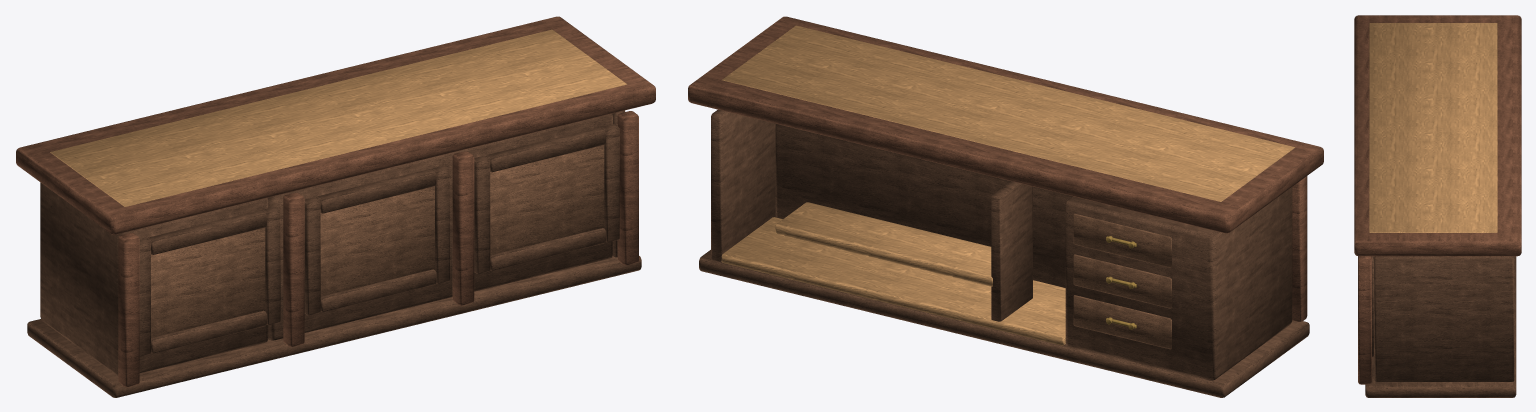
File: asset_061_front_desk_counter_shell.glb
The picture shows the model from 3 angles, left to right: view 1: azimuth 30°, elevation 25°; view 2: azimuth 150°, elevation 25°; view 3: azimuth 270°, elevation 25°; orthographic projection. The views are drawn at different scales.
Visible parts, largest first — view 1: MESH_CustomerRaisedPanelSet, MESH_CounterTopInlay, MESH_CounterTop, MESH_CounterCarcassDrawerBank, MESH_CustomerPilasterSet, MESH_CounterPlinth, MESH_CounterCarcassFrontWall; view 2: MESH_CounterTopInlay, MESH_CounterTop, MESH_CounterCarcassDrawerBank, MESH_CounterCarcassFrontWall, MESH_CounterCarcassBayDeck, MESH_CounterPlinth, MESH_StaffDrawerFrontSet, MESH_StaffLowerShelf, MESH_CounterCarcassEndPanel, MESH_StaffDivider, MESH_CustomerPilasterSet; view 3: MESH_CounterTopInlay, MESH_CounterCarcassEndPanel, MESH_CounterTop, MESH_CounterPlinth, MESH_CustomerPilasterSet, MESH_CustomerRaisedPanelSet.
Part boxes in pixels (box(x1,y1,x2,y2)): MESH_CustomerRaisedPanelSet: box(139, 124, 619, 356); MESH_CounterTopInlay: box(50, 29, 626, 206); MESH_CounterTop: box(16, 16, 655, 234); MESH_CounterCarcassDrawerBank: box(40, 182, 268, 376); MESH_CustomerPilasterSet: box(118, 111, 638, 387); MESH_CounterPlinth: box(27, 256, 641, 397); MESH_CounterCarcassFrontWall: box(267, 113, 612, 340); MESH_CounterTopInlay: box(722, 25, 1295, 201); MESH_CounterTop: box(688, 16, 1323, 233); MESH_CounterCarcassDrawerBank: box(1065, 187, 1292, 380); MESH_CounterCarcassFrontWall: box(775, 124, 1072, 287); MESH_CounterCarcassBayDeck: box(721, 217, 1065, 345); MESH_CounterPlinth: box(699, 250, 1309, 397); MESH_StaffDrawerFrontSet: box(1073, 213, 1171, 349); MESH_StaffLowerShelf: box(775, 202, 992, 286); MESH_CounterCarcassEndPanel: box(711, 109, 775, 261); MESH_StaffDivider: box(991, 181, 1032, 321); MESH_CustomerPilasterSet: box(1292, 176, 1307, 321); MESH_CounterTopInlay: box(1369, 23, 1497, 232); MESH_CounterCarcassEndPanel: box(1374, 256, 1514, 381); MESH_CounterTop: box(1354, 15, 1521, 256); MESH_CounterPlinth: box(1365, 256, 1516, 397); MESH_CustomerPilasterSet: box(1358, 256, 1371, 384); MESH_CustomerRaisedPanelSet: box(1372, 256, 1373, 356).
Bounding box in the file's own units: 2.93 × 0.967 × 0.91.
Materials: 6 (5 with a texture image).
